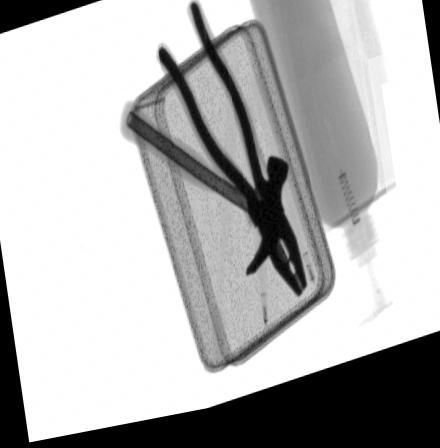Hammer: (119, 104, 289, 286)
Pliers: (154, 4, 307, 311)
